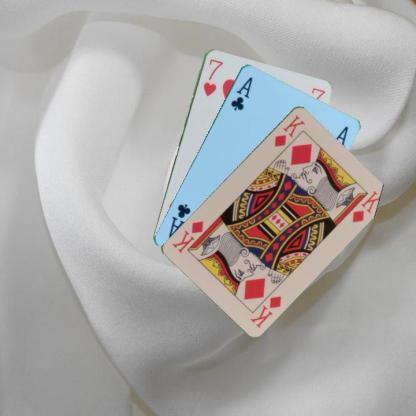7h: (201, 56, 224, 97)
Ac: (228, 74, 254, 112)
Kd: (248, 293, 282, 329), (272, 113, 306, 148)
